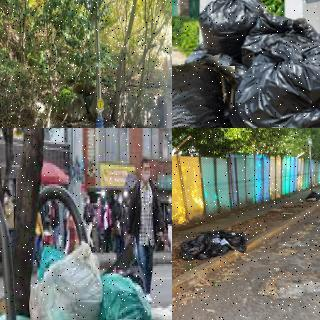Garbage: (230, 49, 320, 128), (172, 60, 241, 128), (40, 244, 101, 320), (200, 0, 267, 48), (99, 274, 156, 320), (180, 239, 203, 260), (196, 232, 219, 244), (226, 234, 243, 246), (306, 191, 320, 200)
